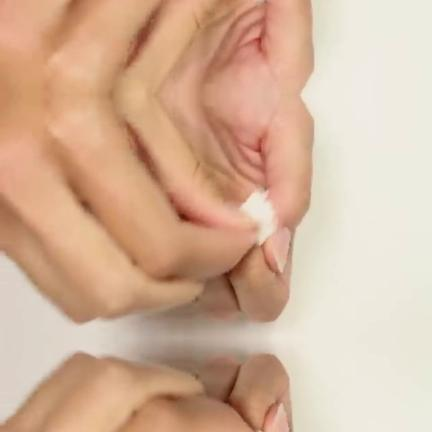Nail: (273, 226, 290, 273), (273, 401, 290, 432)
